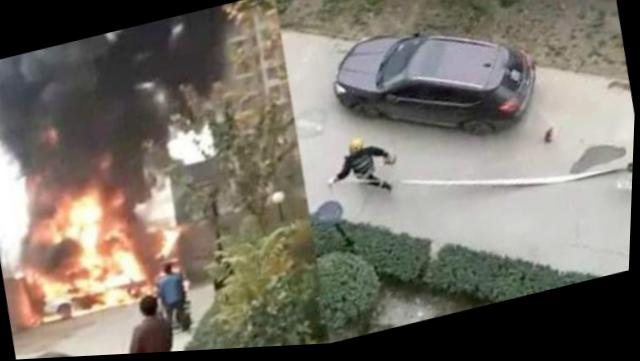fire: (0, 150, 165, 327)
